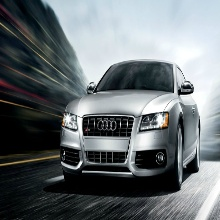no damage: (59, 59, 201, 189)
